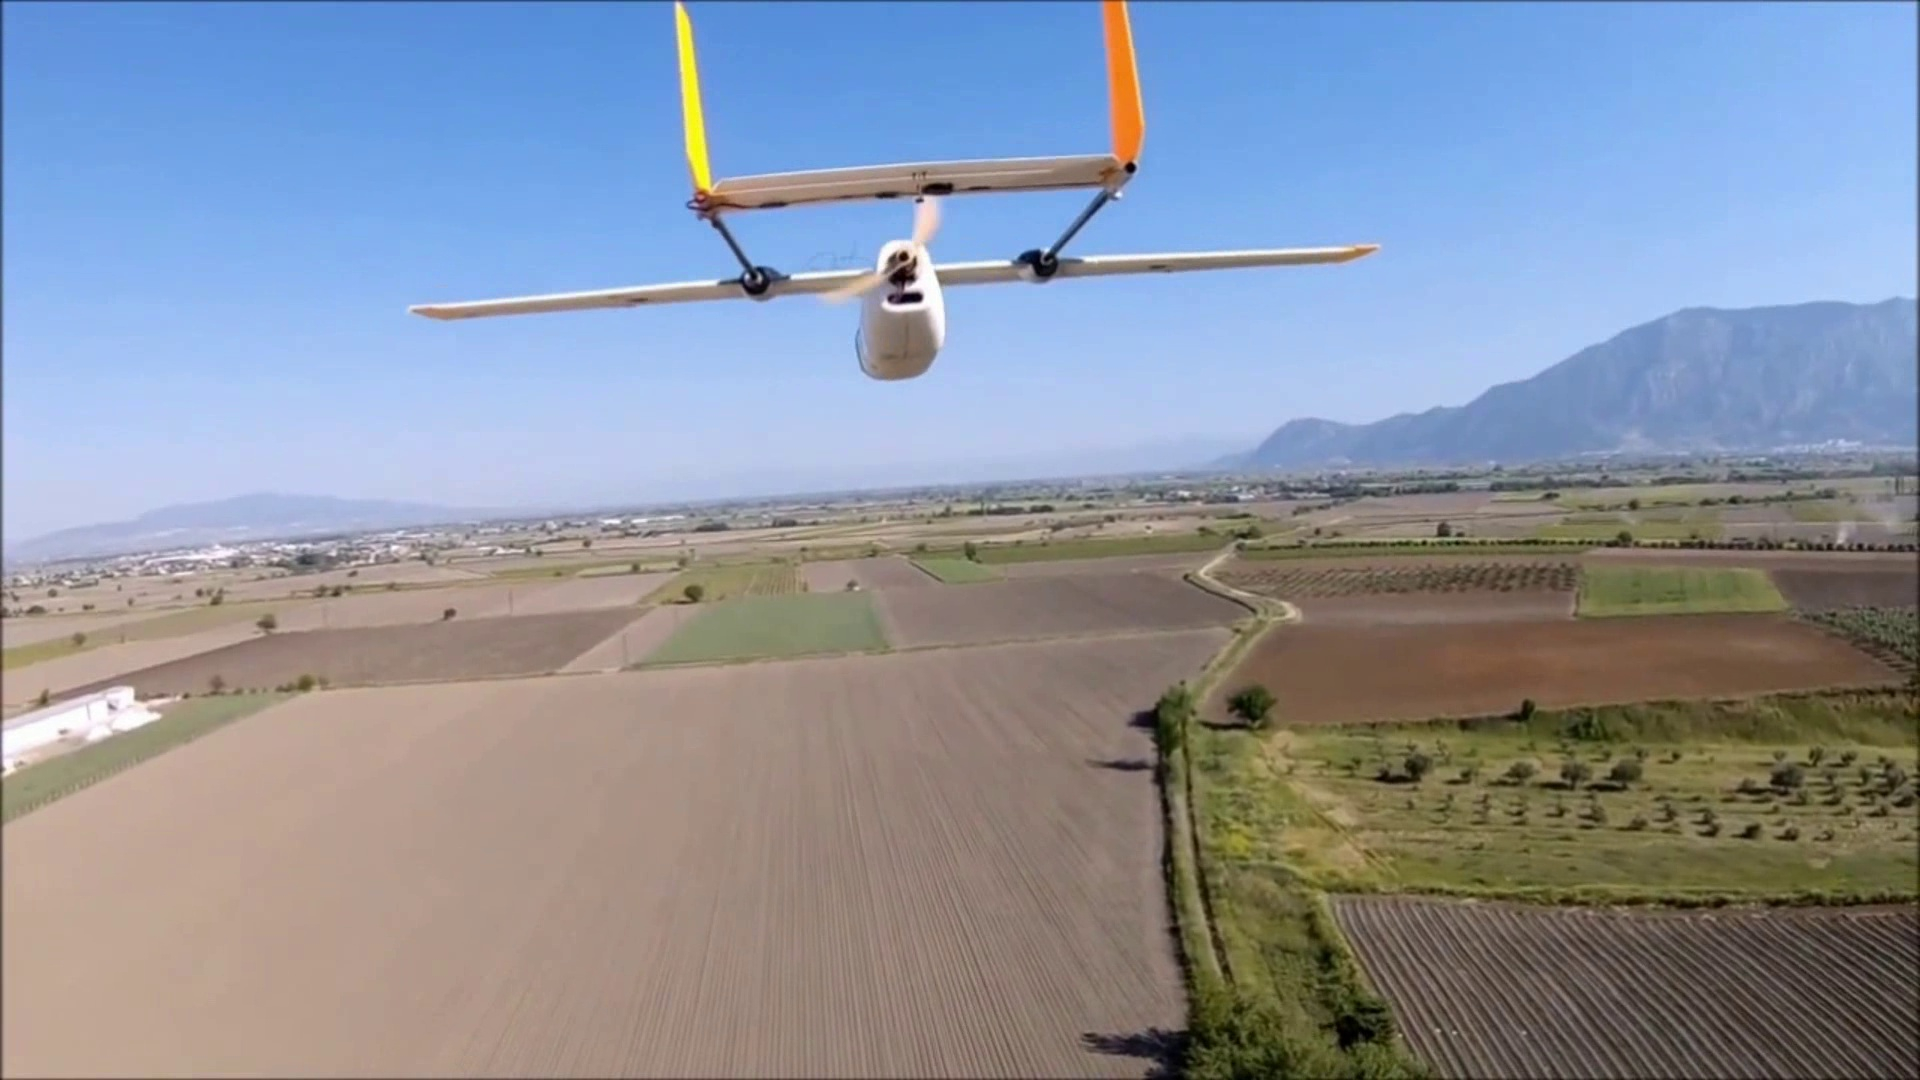airplane: (407, 3, 1377, 375)
